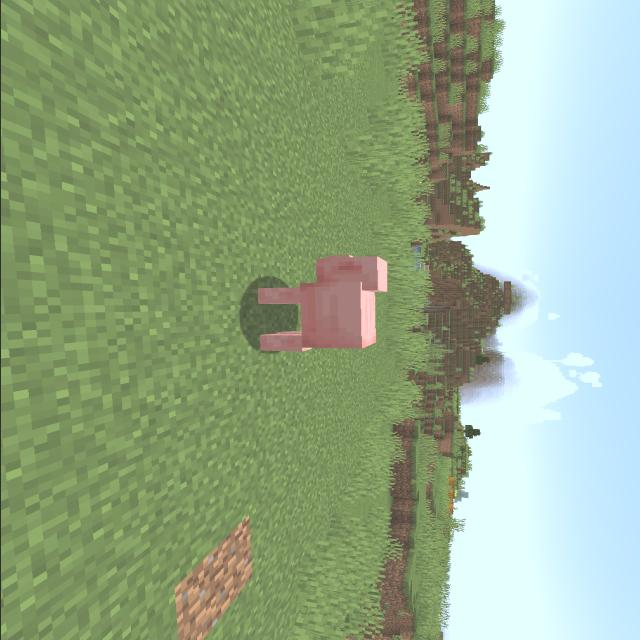pig: (225, 250, 397, 364)
